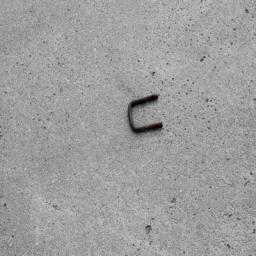FOD: (123, 91, 170, 137)
